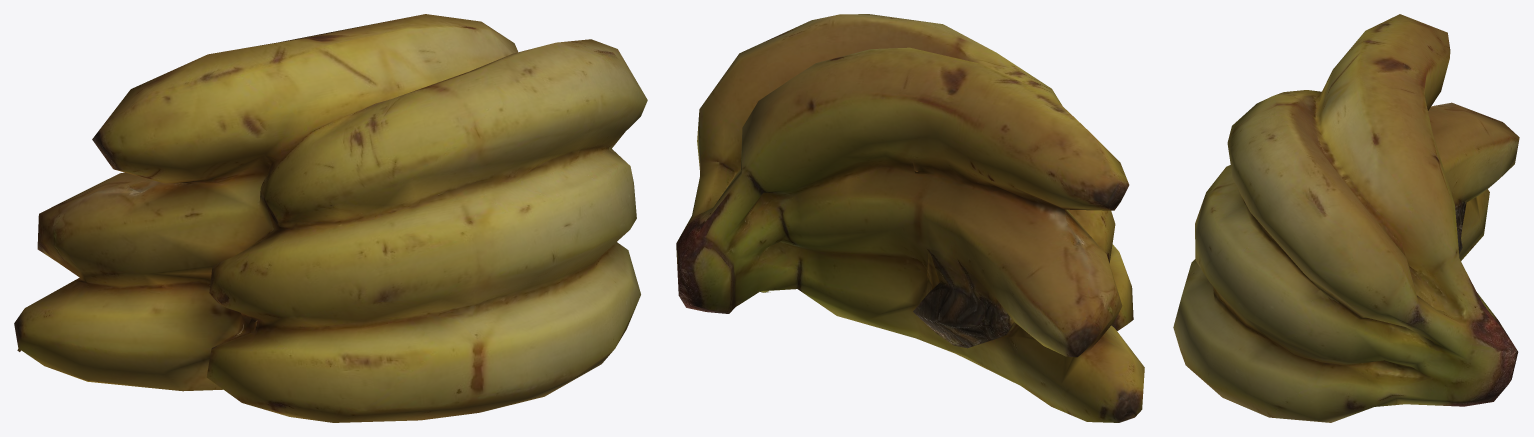
File: 10_banana_bundle.glb
3 renders of one model, left to right at view 1: azimuth 30°, elevation 25°; view 2: azimuth 150°, elevation 25°; view 3: azimuth 270°, elevation 25°, orthographic. The views are drawn at different scales.
Parts seen in each view (by area): view 1: banana10_lr; view 2: banana10_lr; view 3: banana10_lr.
Boxes of the visible parts, left/top/right/bottom form: banana10_lr: left=14, top=14, right=647, bottom=422; banana10_lr: left=676, top=14, right=1144, bottom=422; banana10_lr: left=1173, top=14, right=1519, bottom=422.
Size of the model in its own units: 1.34 by 0.7581 by 0.8457.
Materials: 1 (1 with a texture image).
